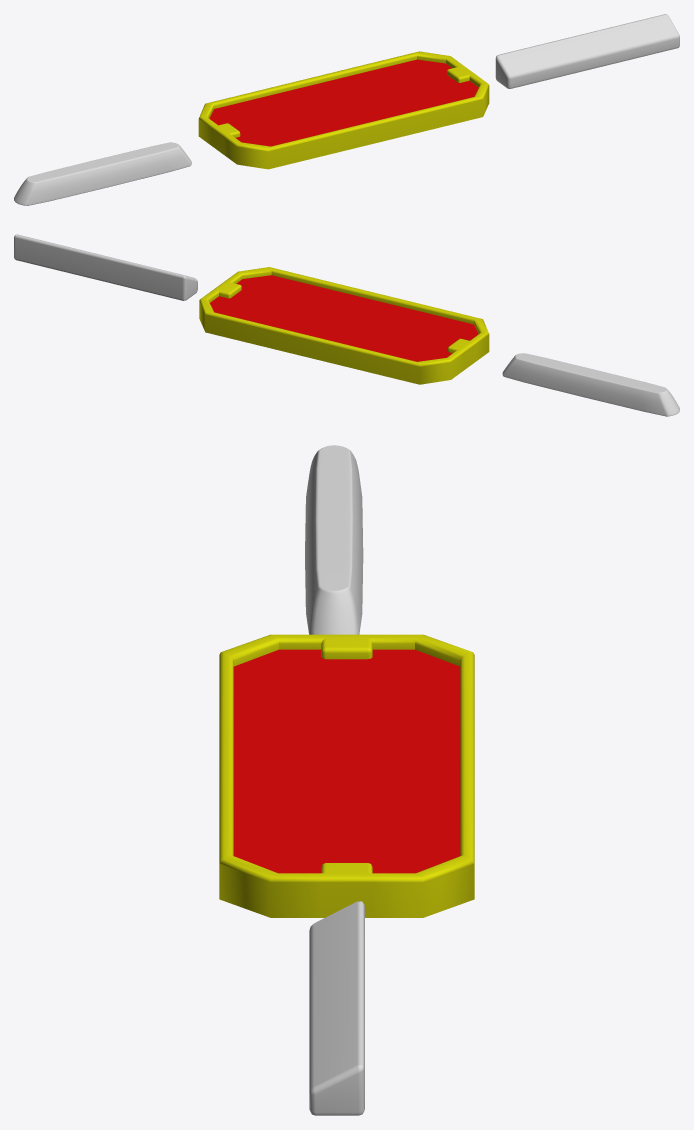
The model's file is Entrance_Parts.fbx.
The picture shows the model from 3 angles, top to bottom: view 1: azimuth 30°, elevation 25°; view 2: azimuth 150°, elevation 25°; view 3: azimuth 270°, elevation 25°; orthographic projection. The views are drawn at different scales.
Parts seen in each view (by area): view 1: Entrance_Vent, Entrance_Stopper_2, Entrance_Stopper; view 2: Entrance_Vent, Entrance_Stopper, Entrance_Stopper_2; view 3: Entrance_Vent, Entrance_Stopper_2, Entrance_Stopper.
Boxes of the visible parts, left/top/right/bottom form: Entrance_Vent: left=198, top=51, right=489, bottom=169; Entrance_Stopper_2: left=495, top=14, right=679, bottom=88; Entrance_Stopper: left=14, top=142, right=191, bottom=205; Entrance_Vent: left=199, top=267, right=489, bottom=384; Entrance_Stopper: left=502, top=353, right=679, bottom=416; Entrance_Stopper_2: left=14, top=234, right=197, bottom=300; Entrance_Vent: left=219, top=634, right=474, bottom=917; Entrance_Stopper_2: left=309, top=901, right=364, bottom=1115; Entrance_Stopper: left=305, top=445, right=363, bottom=634.
Bounding box in the file's own units: 573 × 20.53 × 96.18.
